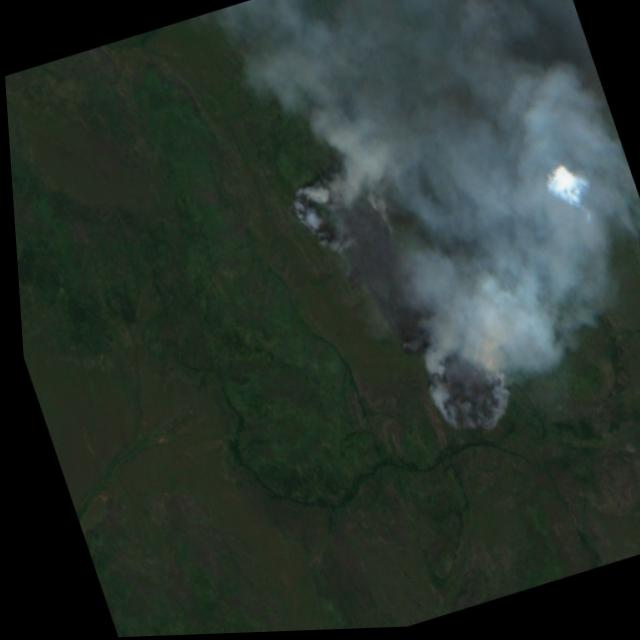fire: (269, 126, 528, 477)
